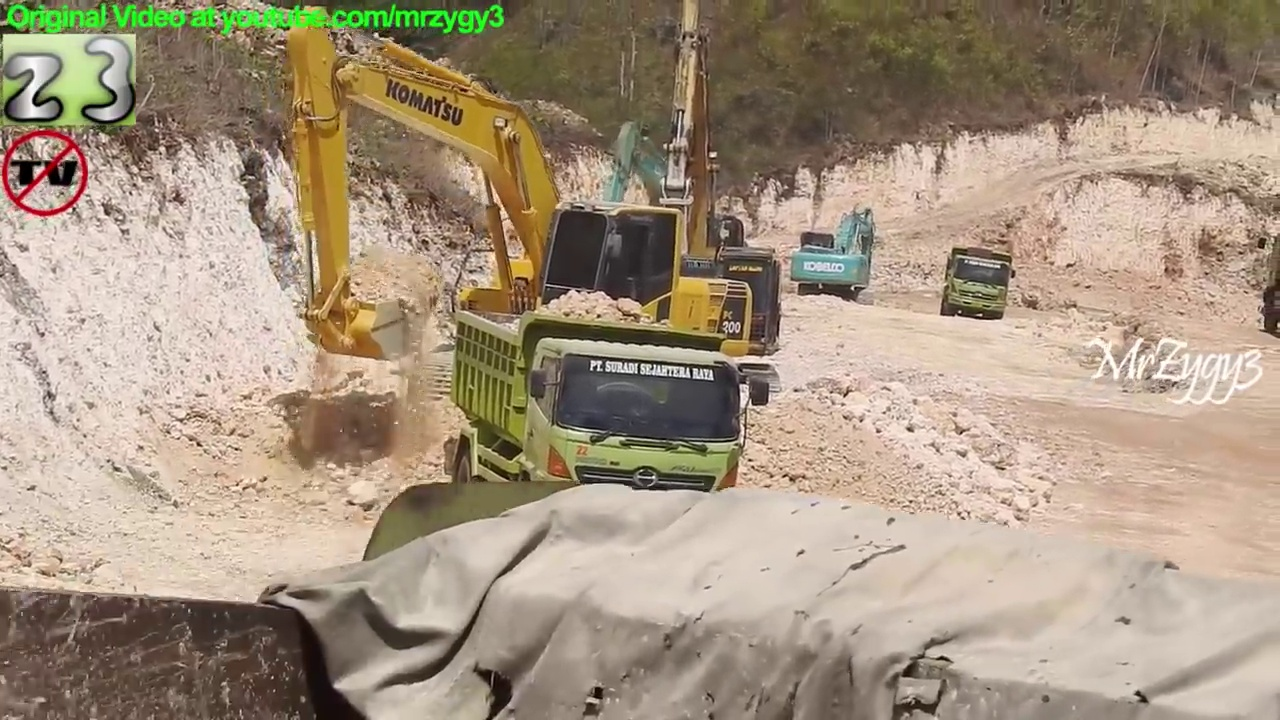excavator: (293, 5, 755, 430), (500, 2, 784, 409), (786, 202, 879, 300)
truck: (7, 483, 1280, 720), (443, 296, 777, 551), (941, 243, 1020, 324)
